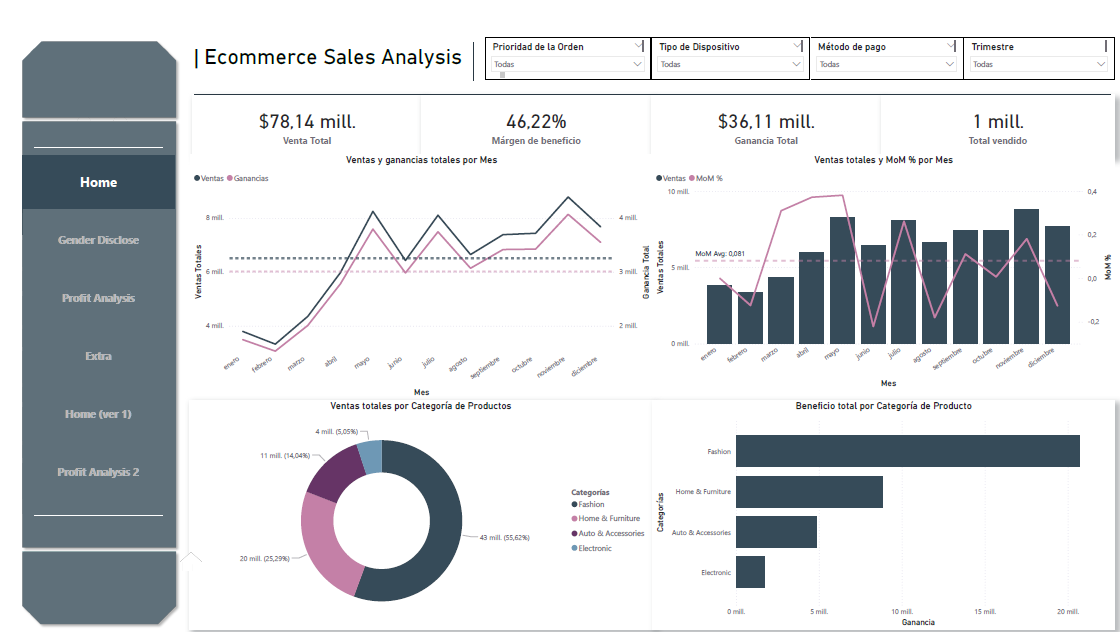

This screenshot's page, from the dashboard's own definition file:
{"tool":"powerbi","page":{"name":"Home","canvas":[1920,1080],"ordinal":0},"visuals":[{"type":"cardVisual","fields":{"Data":["Util.Profit Margin"]},"box":[1236.9,120.3,287.2,178.5],"z":0},{"type":"areaChart","title":"Monthly Sales and Profit","fields":{"Category":["Calendar.MonthName"],"Y":["Sum(ecomm.Sales)","Sum(ecomm.Profit)"]},"box":[301.9,290,804.7,375.1],"z":1000},{"type":"donutChart","title":"Sales by Product Category","fields":{"Category":["ecomm.Product_Category"],"Y":["Sum(ecomm.Sales)"]},"box":[301.9,665,804.7,399],"z":2000},{"type":"barChart","title":"Average Profit Margin by Product Category","fields":{"Category":["ecomm.Product_Category"],"Y":["ecomm.Margen % Categoría"]},"box":[1106.6,665,798,399],"z":3000},{"type":"slicer","fields":{"Values":["Calendar.Quarter"]},"box":[1647.9,33.3,263.3,74.5],"z":4000},{"type":"slicer","fields":{"Values":["ecomm.Order_Priority"]},"box":[814,33.3,290,74.5],"z":5000},{"type":"slicer","fields":{"Values":["ecomm.Payment_method"]},"box":[1380.6,33.3,267.3,74.5],"z":6000},{"type":"slicer","fields":{"Values":["ecomm.Device_Type"]},"box":[1103.9,33.3,276.7,74.5],"z":7000},{"type":"textbox","title":"| Ecommerce Sales Analysis","box":[301.9,43.9,552,63.8],"z":8000},{"type":"pageNavigator","box":[9.3,290,264.7,577.2],"z":9000},{"type":"image","box":[280.6,927,42.6,41.2],"z":10000},{"type":"shape","box":[308.6,122.4,1596.1,20],"z":11000},{"type":"shape","box":[779.4,41.2,30.6,66.5],"z":12000},{"type":"image","box":[39.9,65.2,204.8,135.7],"z":13000},{"type":"shape","box":[30.6,239.4,222.1,22.6],"z":14000},{"type":"shape","box":[30.6,867.2,222.1,22.6],"z":15000},{"type":"shape","box":[0,171.6,284.6,759.5],"z":16000},{"type":"shape","box":[0,31.9,284.6,150.3],"z":17000},{"type":"shape","box":[0,920.4,284.6,143.6],"z":18000},{"type":"pageNavigator","box":[9.3,240,264,597.3],"z":19000},{"type":"shape","box":[30.6,214.1,222.1,22.6],"z":20000},{"type":"shape","box":[30.6,855.2,222.1,22.6],"z":21000},{"type":"cardVisual","fields":{"Data":["ecomm.Sales Q4"]},"box":[301.5,133.3,477.4,156.5],"z":22000},{"type":"lineClusteredColumnComboChart","title":"Month-over-Month Sales and Profit Growth (%)","fields":{"Y":["Sum(ecomm.Sales)","Sum(ecomm.Profit)"],"Category":["Calendar.MonthName"],"Y2":["ecomm.MoM profit %","ecomm.MoM %"]},"box":[1106.6,290,798,375.1],"z":23000},{"type":"cardVisual","fields":{"Data":["ecomm.Profit Q4"]},"box":[778.9,133.3,473.5,156.5],"z":24000},{"type":"cardVisual","fields":{"Data":["ecomm.MoM profit %"]},"box":[1698.8,120.3,221.2,179.8],"z":25000},{"type":"cardVisual","fields":{"Data":["ecomm.MoM %"]},"box":[1496.9,120.3,231.6,179.8],"z":26000}]}

Visuals, with their boxes on the page's 1920x1080 design canvas (x1, y1, x2, y2). These are canvas units, not pixel positions in the 1120x632 screenshot, which may show the page scaled, cropped or inside an application window:
cardVisual - Util.Profit Margin: detection(1237, 120, 1524, 299)
"Monthly Sales and Profit" areaChart: detection(302, 290, 1107, 665)
"Sales by Product Category" donutChart: detection(302, 665, 1107, 1064)
"Average Profit Margin by Product Category" barChart: detection(1107, 665, 1905, 1064)
slicer - Calendar.Quarter: detection(1648, 33, 1911, 108)
slicer - ecomm.Order_Priority: detection(814, 33, 1104, 108)
slicer - ecomm.Payment_method: detection(1381, 33, 1648, 108)
slicer - ecomm.Device_Type: detection(1104, 33, 1381, 108)
"| Ecommerce Sales Analysis" textbox: detection(302, 44, 854, 108)
pageNavigator: detection(9, 290, 274, 867)
image: detection(281, 927, 323, 968)
shape: detection(309, 122, 1905, 142)
shape: detection(779, 41, 810, 108)
image: detection(40, 65, 245, 201)
shape: detection(31, 239, 253, 262)
shape: detection(31, 867, 253, 890)
shape: detection(0, 172, 285, 931)
shape: detection(0, 32, 285, 182)
shape: detection(0, 920, 285, 1064)
pageNavigator: detection(9, 240, 273, 837)
shape: detection(31, 214, 253, 237)
shape: detection(31, 855, 253, 878)
cardVisual - ecomm.Sales Q4: detection(302, 133, 779, 290)
"Month-over-Month Sales and Profit Growth (%)" lineClusteredColumnComboChart: detection(1107, 290, 1905, 665)
cardVisual - ecomm.Profit Q4: detection(779, 133, 1252, 290)
cardVisual - ecomm.MoM profit %: detection(1699, 120, 1920, 300)
cardVisual - ecomm.MoM %: detection(1497, 120, 1728, 300)
